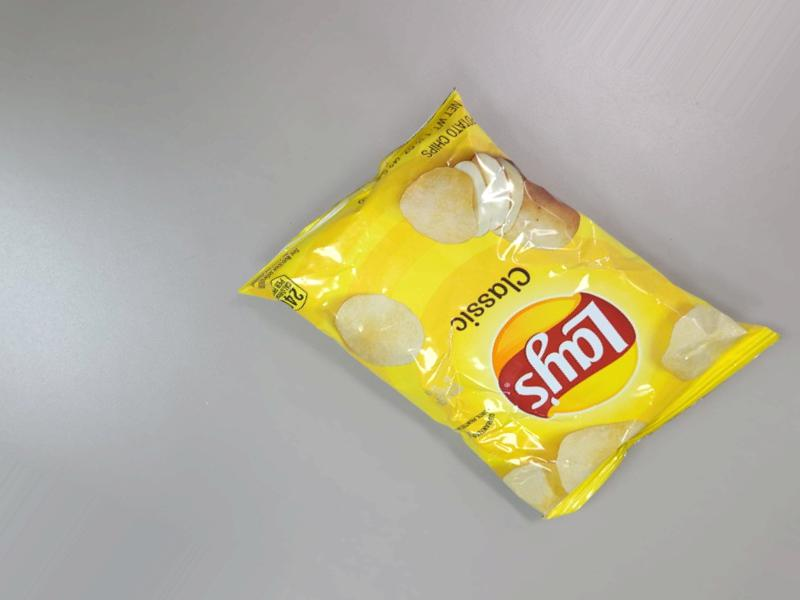lays: (329, 53, 762, 552)
